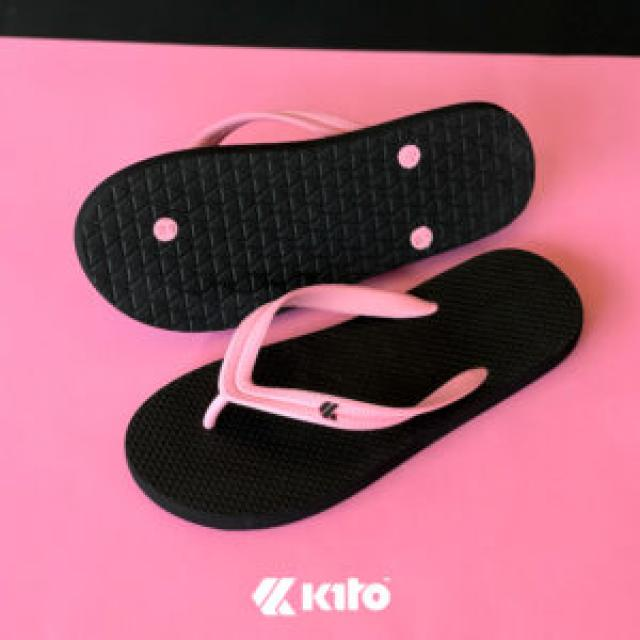Sandals: (67, 95, 593, 563)
